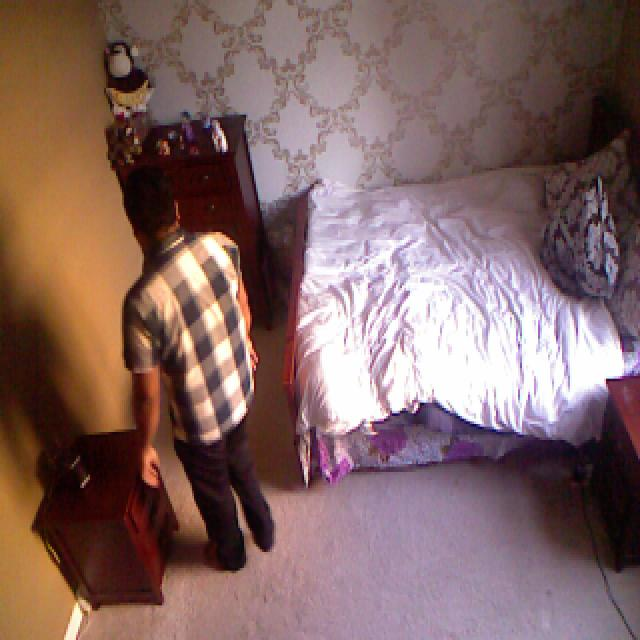standing: (109, 153, 282, 568)
